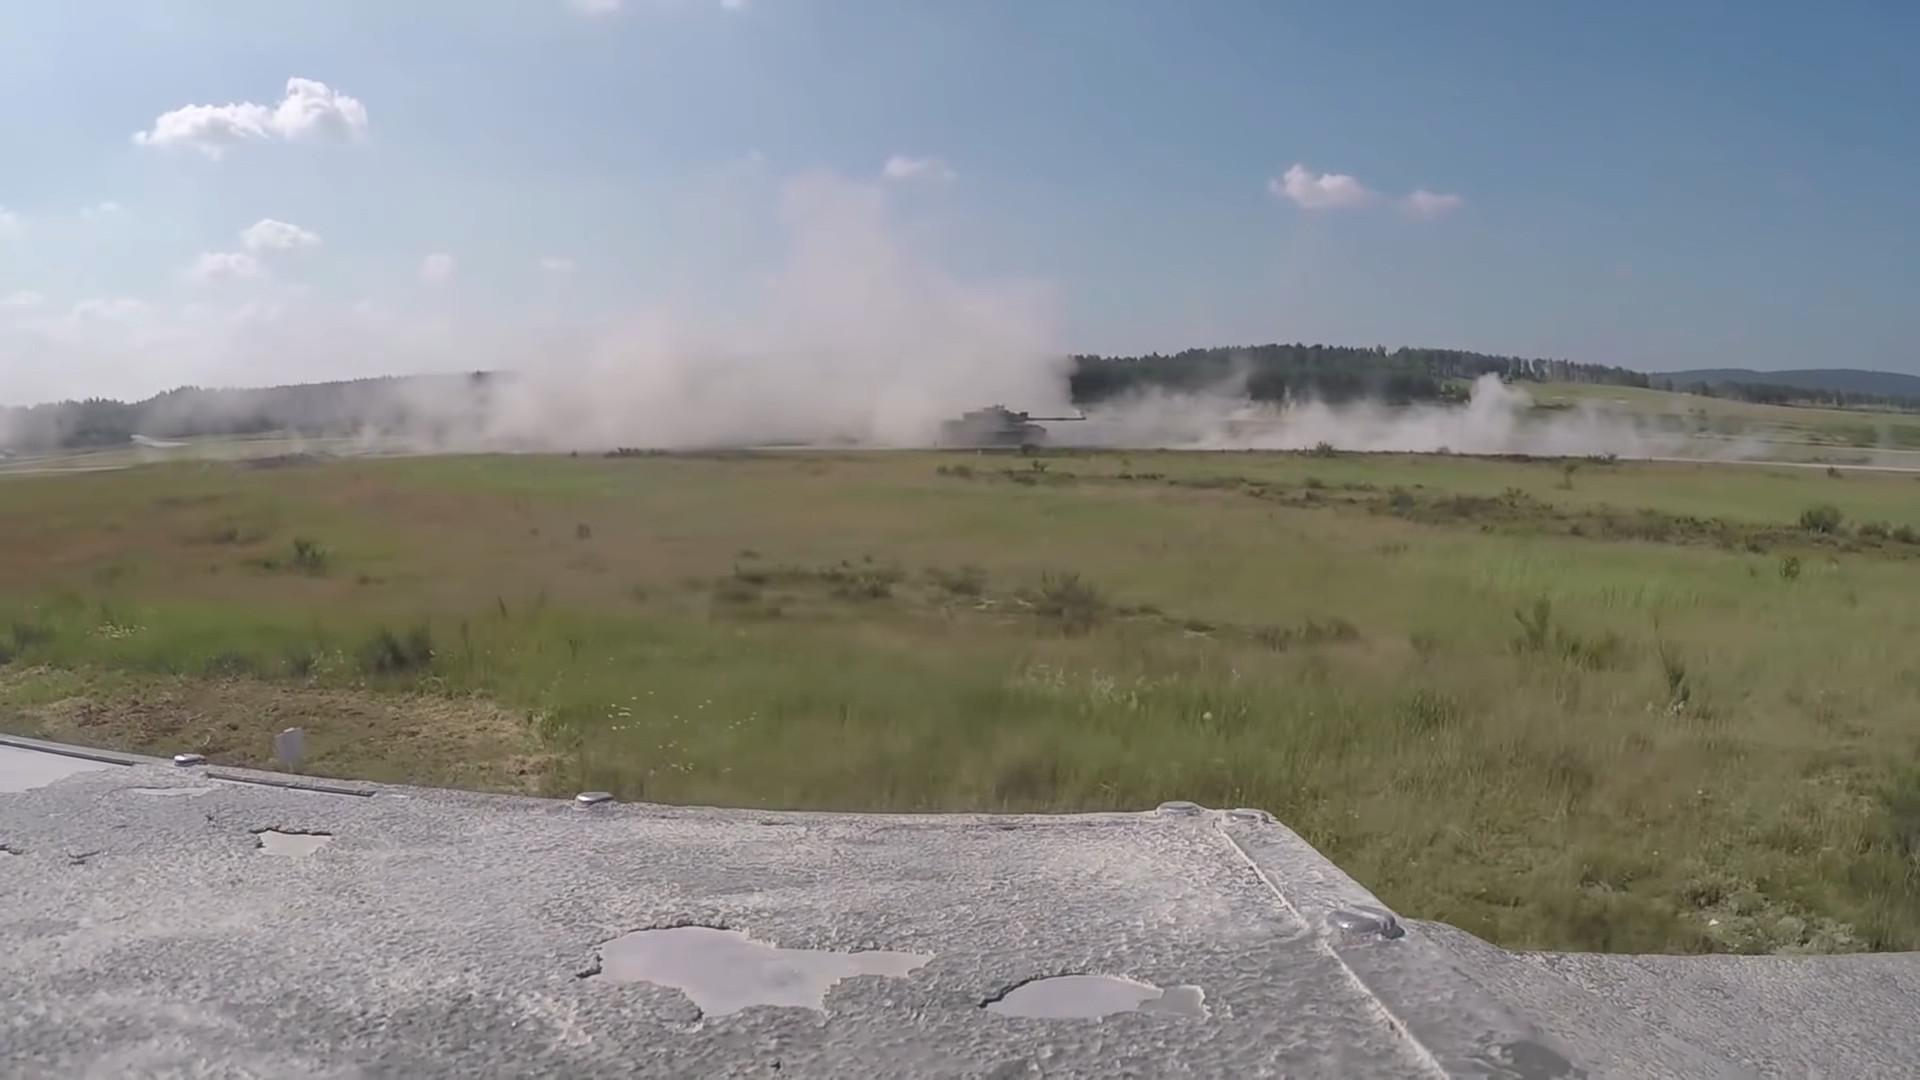tank: (943, 405, 1087, 443)
